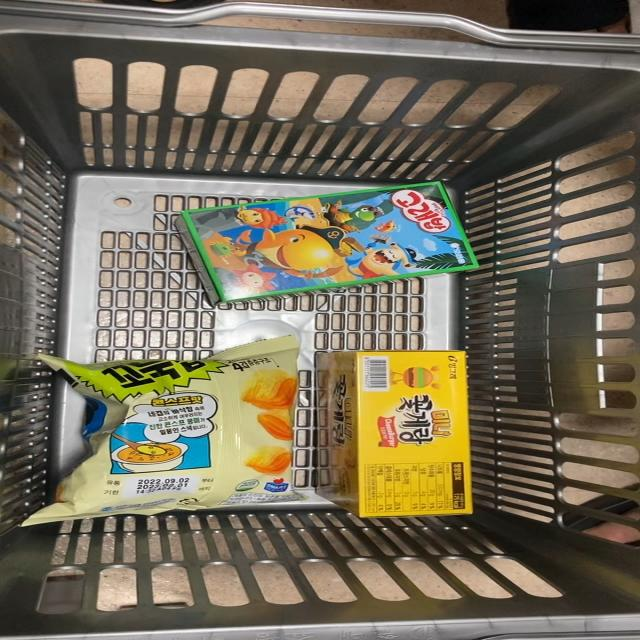ggobukchip: (34, 343, 320, 528)
goraebob: (149, 174, 496, 302)
minicrab: (351, 342, 501, 526)
